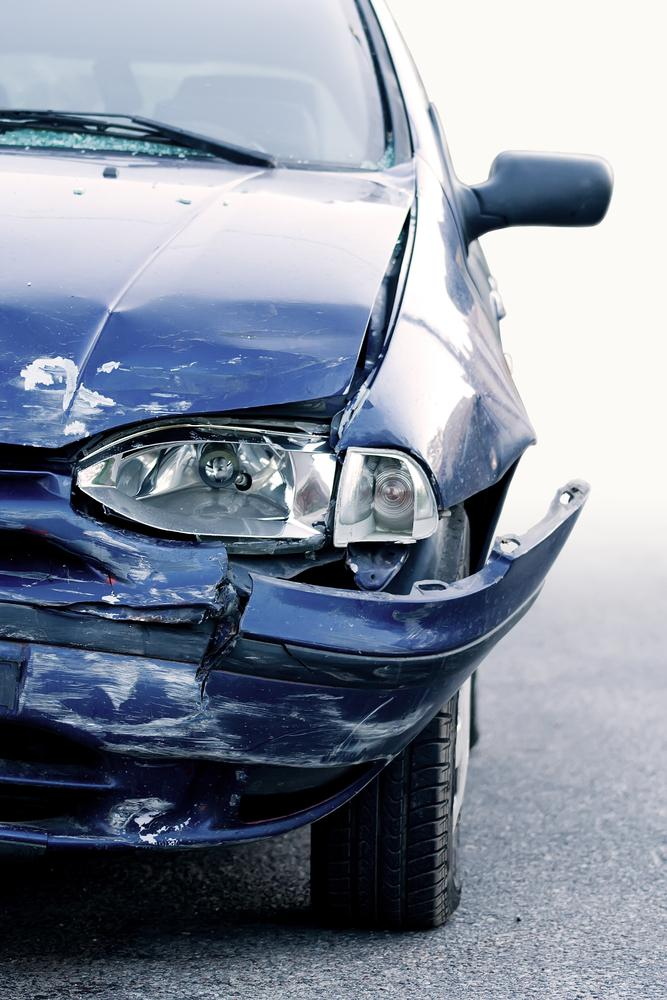crack: (197, 575, 255, 706), (281, 644, 355, 686)
dent: (0, 296, 362, 446)
lamp broken: (71, 434, 435, 544)
scratch: (105, 794, 197, 849)
